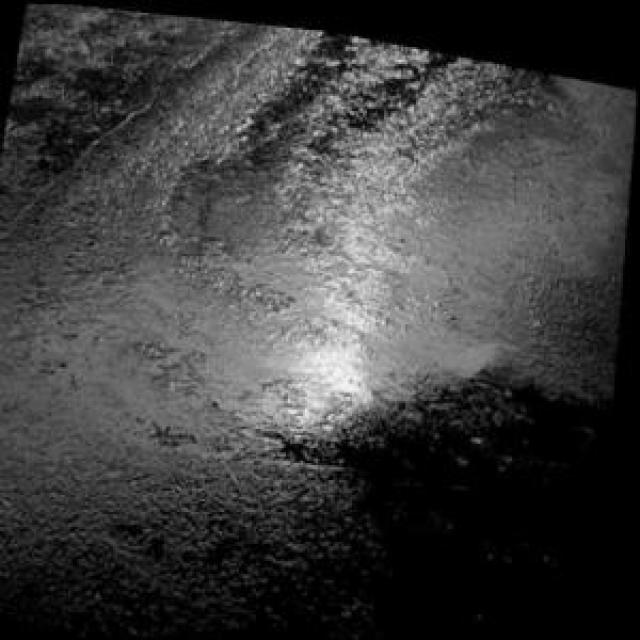ice-road: (0, 6, 636, 638)
